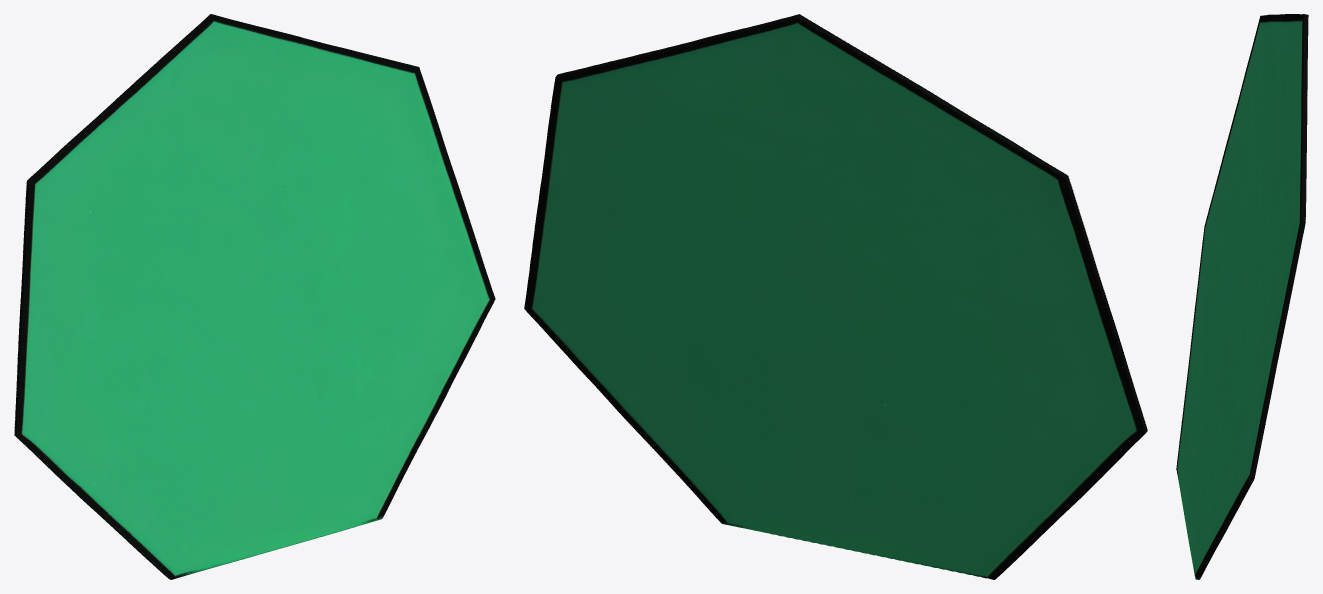
Rendered from heptagono3d2.glb.
3 renders of one model, left to right at view 1: azimuth 30°, elevation 25°; view 2: azimuth 150°, elevation 25°; view 3: azimuth 270°, elevation 25°, orthographic. The views are drawn at different scales.
Parts seen in each view (by area): view 1: Object_4; view 2: Object_4; view 3: Object_4.
Boxes of the visible parts, <box> form: Object_4: <box>14,14,495,579</box>; Object_4: <box>524,14,1147,579</box>; Object_4: <box>1176,14,1308,579</box>.
Bounding box in the file's own units: 1.13 × 1.07 × 0.2524.
1 material, 1 textured.
